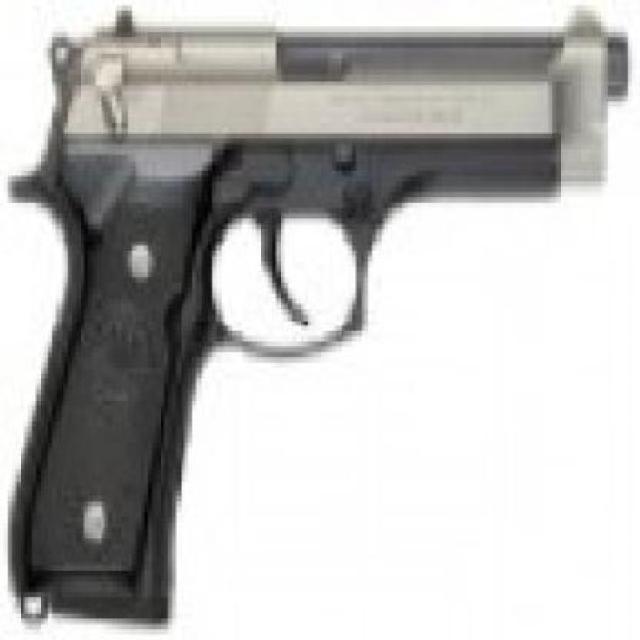gun: (4, 11, 616, 618)
